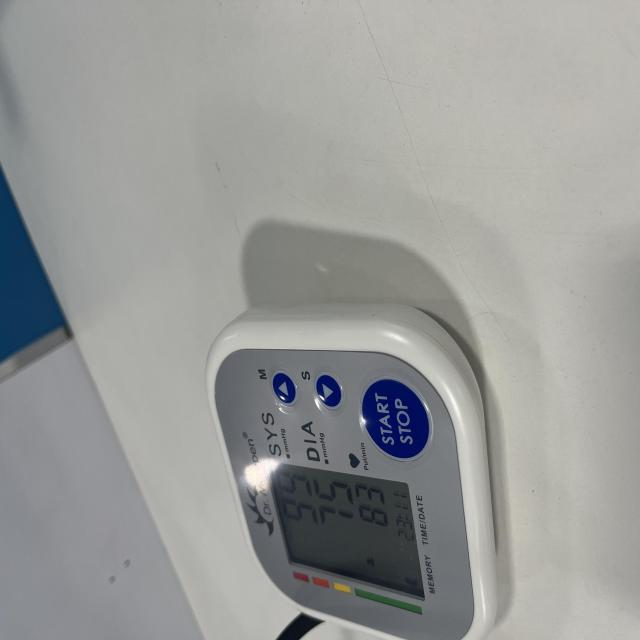bp: (205, 222, 497, 640)
